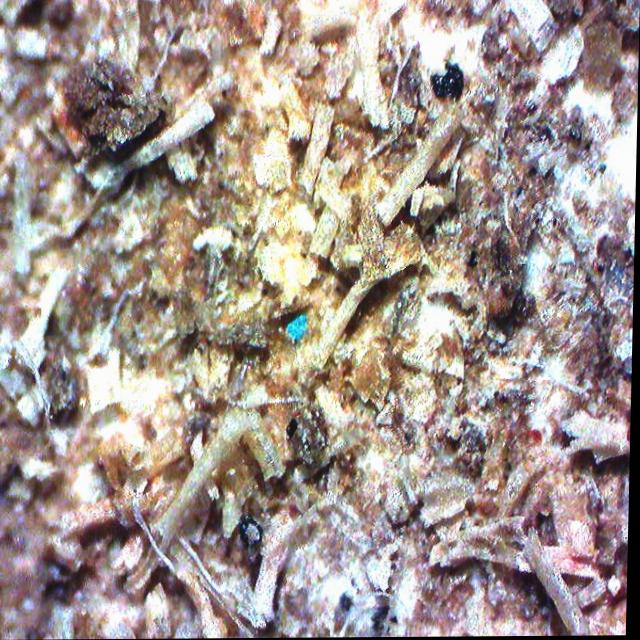microplastic: (284, 310, 317, 344)
